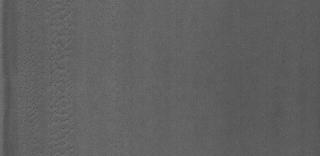silk spot: (37, 7, 79, 144)
